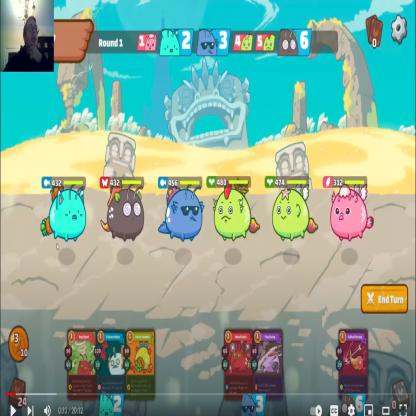axie-biaozhu: (269, 188, 319, 248), (329, 187, 376, 247), (100, 187, 146, 247), (41, 188, 86, 246), (212, 189, 261, 242), (158, 188, 203, 244)
